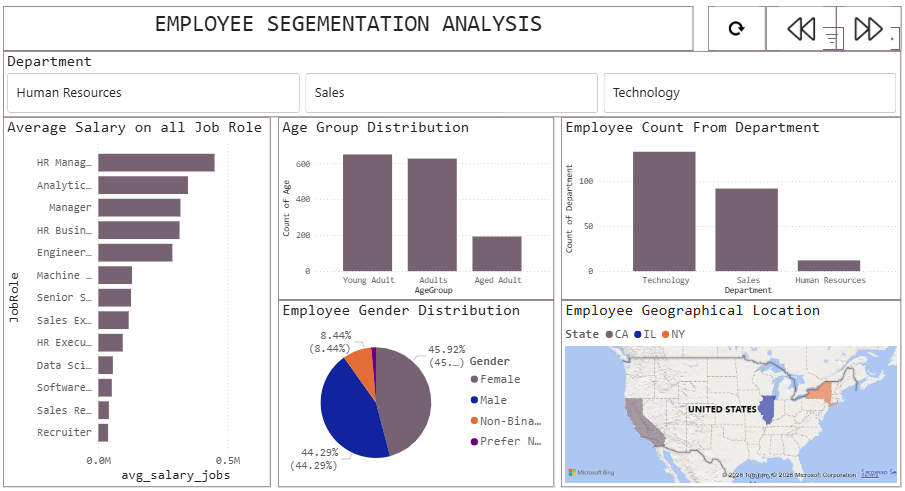

The dashboard page shown, as its layout file describes it:
{"tool":"powerbi","page":{"name":"Page 1","canvas":[1280,720],"ordinal":0},"visuals":[{"type":"pieChart","title":"Employee Gender Distribution","fields":{"Category":["Employee.Gender"],"Y":["Divide(CountNonNull(Employee.Gender), ScopedEval(CountNonNull(Employee.Gender), []))"]},"box":[397.9,433.6,388.3,263.5],"z":0},{"type":"columnChart","title":" Age Group Distribution","fields":{"Category":["Employee.AgeGroup"],"Y":["CountNonNull(Employee.Age)"]},"box":[397.9,177,388.3,256.6],"z":1000},{"type":"clusteredColumnChart","title":"Employee Count From Department","fields":{"Category":["Employee.Department"],"Y":["CountNonNull(Employee.Department)"]},"box":[795.9,177,477.5,256.6],"z":2000},{"type":"clusteredBarChart","title":"Average Salary on all Job Role","fields":{"Category":["Employee.JobRole"],"Y":["Employee.avg_salary_jobs"]},"box":[11,177,376,520.1],"z":3000},{"type":"filledMap","title":"Employee Geographical Location","fields":{"Category":["Employee.State"],"Series":["Employee.State"]},"box":[795.9,433.6,477.5,263.5],"z":4000},{"type":"advancedSlicerVisual","fields":{"Values":["Employee.Department"]},"box":[11,83.7,1262.4,93.3],"z":5000},{"type":"textbox","box":[11,20.6,970.2,63.1],"z":6000},{"type":"image","box":[1181.5,20.6,91.9,63.1],"z":7000},{"type":"image","box":[1082.7,20.6,98.8,63.1],"z":8000},{"type":"image","box":[1001.7,20.6,81,63.1],"z":9000}]}

Visuals, with their boxes on the page's 1280x720 design canvas (x1, y1, x2, y2). These are canvas units, not pixel positions in the 905x491 screenshot, which may show the page scaled, cropped or inside an application window:
"Employee Gender Distribution" pieChart: pyautogui.locateOnScreen(398, 434, 786, 697)
" Age Group Distribution" columnChart: pyautogui.locateOnScreen(398, 177, 786, 434)
"Employee Count From Department" clusteredColumnChart: pyautogui.locateOnScreen(796, 177, 1273, 434)
"Average Salary on all Job Role" clusteredBarChart: pyautogui.locateOnScreen(11, 177, 387, 697)
"Employee Geographical Location" filledMap: pyautogui.locateOnScreen(796, 434, 1273, 697)
advancedSlicerVisual - Employee.Department: pyautogui.locateOnScreen(11, 84, 1273, 177)
textbox: pyautogui.locateOnScreen(11, 21, 981, 84)
image: pyautogui.locateOnScreen(1182, 21, 1273, 84)
image: pyautogui.locateOnScreen(1083, 21, 1182, 84)
image: pyautogui.locateOnScreen(1002, 21, 1083, 84)
